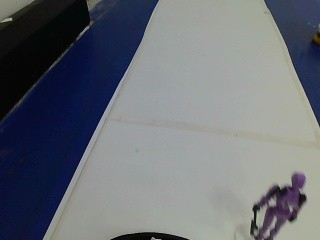pedestrian: (244, 160, 311, 238)
